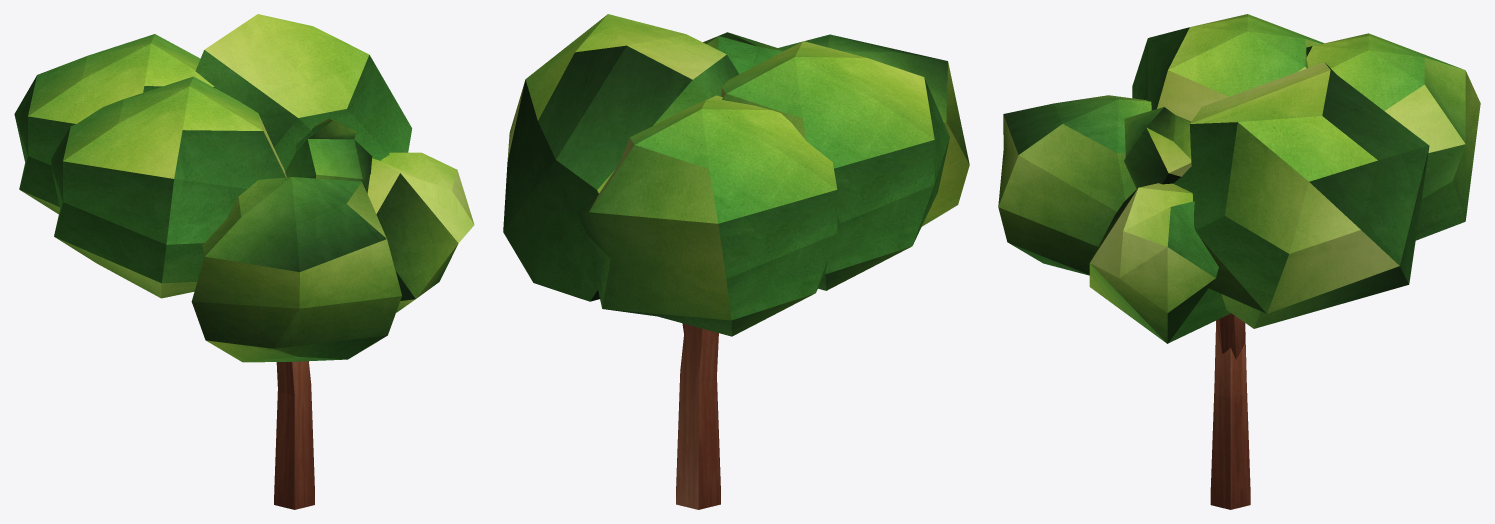
Rendered from Tree_v1.fbx.
3 views of the same model, side by side, from view 1: azimuth 30°, elevation 25°; view 2: azimuth 150°, elevation 25°; view 3: azimuth 270°, elevation 25° (orthographic). The views are drawn at different scales.
Visible parts, largest first — view 1: Tree_v1; view 2: Tree_v1; view 3: Tree_v1.
Boxes of the visible parts, bbox=[...] form: Tree_v1: bbox=[14, 14, 474, 509]; Tree_v1: bbox=[503, 14, 969, 509]; Tree_v1: bbox=[998, 14, 1480, 509].
Bounding box in the file's own units: 6.17 × 7.2 × 7.21.
